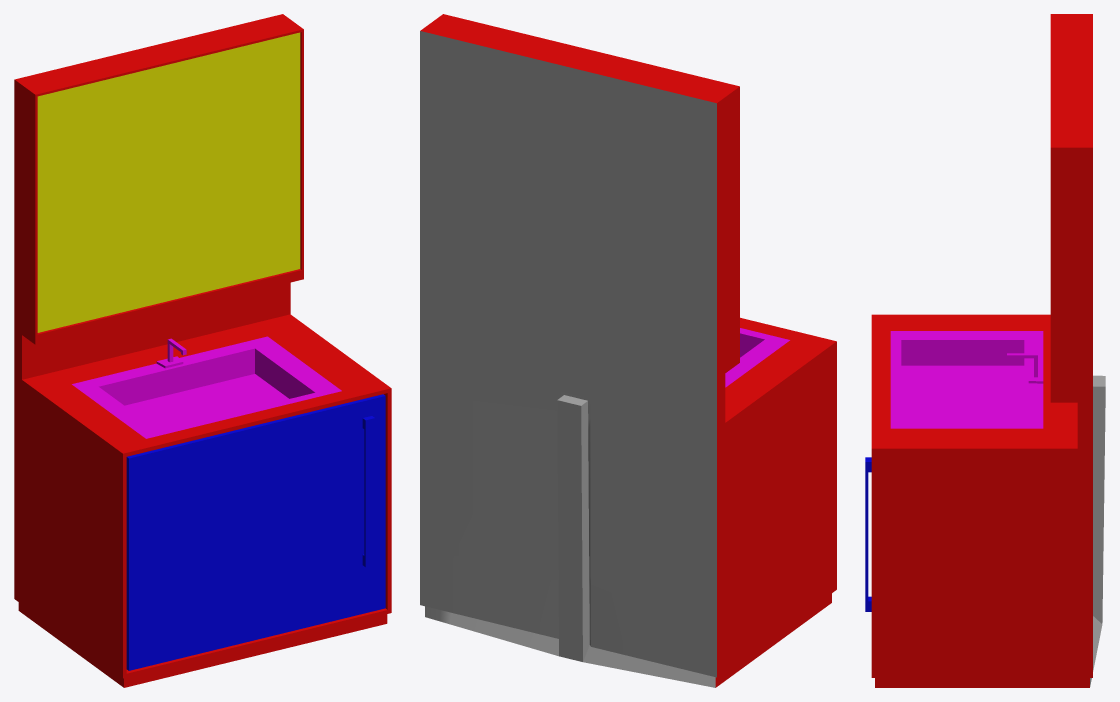
Rendered from Sink.fbx.
The picture shows the model from 3 angles, left to right: view 1: azimuth 30°, elevation 25°; view 2: azimuth 150°, elevation 25°; view 3: azimuth 270°, elevation 25°; orthographic projection. The views are drawn at different scales.
Visible parts, largest first — view 1: pCube1; view 2: pCube1; view 3: pCube1.
Boxes of the visible parts, left/top/right/bottom form: pCube1: left=14, top=14, right=391, bottom=687; pCube1: left=420, top=14, right=836, bottom=687; pCube1: left=865, top=14, right=1105, bottom=687.
Size of the model in its own units: 100 by 189 by 76.06.
